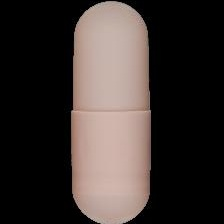24236-913: (0, 0, 224, 224)
